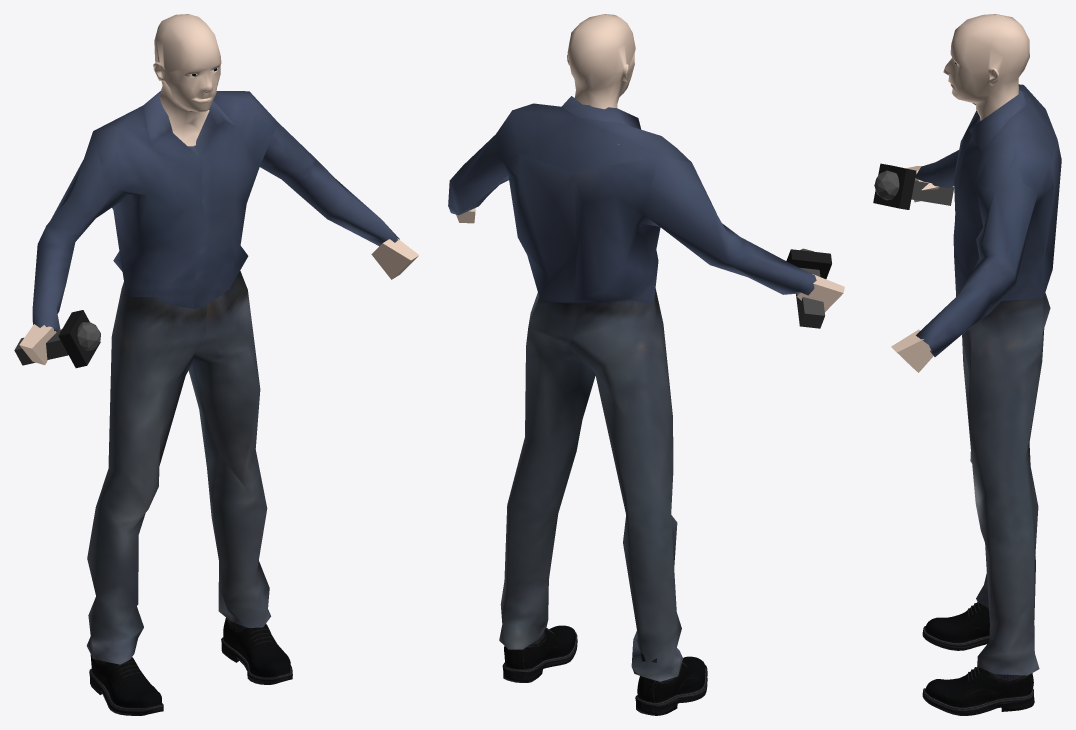
The model's file is John_Base.glb.
3 views of the same model, side by side, from view 1: azimuth 30°, elevation 25°; view 2: azimuth 150°, elevation 25°; view 3: azimuth 270°, elevation 25° (orthographic).
Visible parts, largest first — view 1: male_casualsuit01Mesh, exportsMesh, shoes03Mesh, Sphere.002, Cube, Cube.001; view 2: male_casualsuit01Mesh, shoes03Mesh, exportsMesh, Sphere.002, Cube.001; view 3: male_casualsuit01Mesh, exportsMesh, shoes03Mesh, Sphere.002, Cube.
Boxes of the visible parts, x1,y1,x2,y2 form: male_casualsuit01Mesh: (32, 91, 399, 664); exportsMesh: (153, 14, 221, 146); shoes03Mesh: (89, 618, 292, 715); Sphere.002: (14, 310, 100, 368); Cube: (371, 238, 419, 279); Cube.001: (19, 324, 56, 364); male_casualsuit01Mesh: (448, 96, 816, 681); shoes03Mesh: (502, 625, 707, 715); exportsMesh: (567, 14, 635, 144); Sphere.002: (786, 248, 831, 328); Cube.001: (797, 274, 844, 312); male_casualsuit01Mesh: (915, 84, 1061, 675); exportsMesh: (943, 14, 1029, 120); shoes03Mesh: (922, 601, 1034, 715); Sphere.002: (873, 163, 954, 209); Cube: (891, 329, 933, 372).
Size of the model in its own units: 1.23 by 2 by 0.5213.
7 materials, 3 textured.
